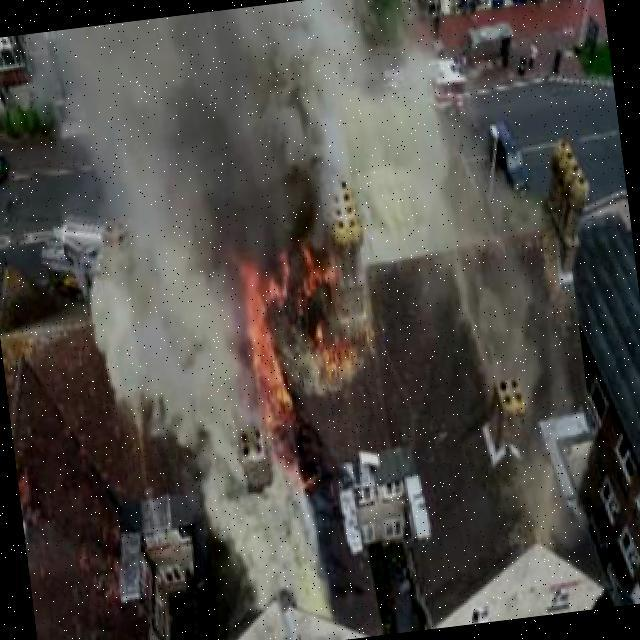Fire: (229, 245, 297, 418), (281, 258, 341, 332), (309, 323, 372, 391)
Smoke: (35, 15, 262, 444), (363, 169, 546, 387), (187, 389, 331, 622), (299, 0, 463, 193)
